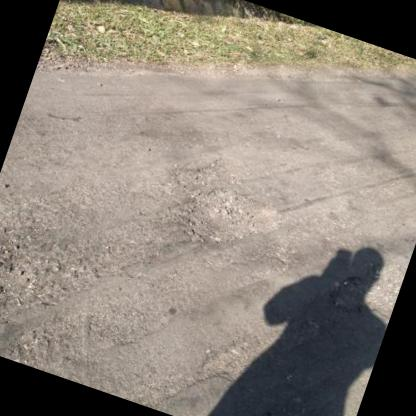pothole: (174, 176, 287, 268), (168, 141, 247, 202), (0, 243, 43, 334)
